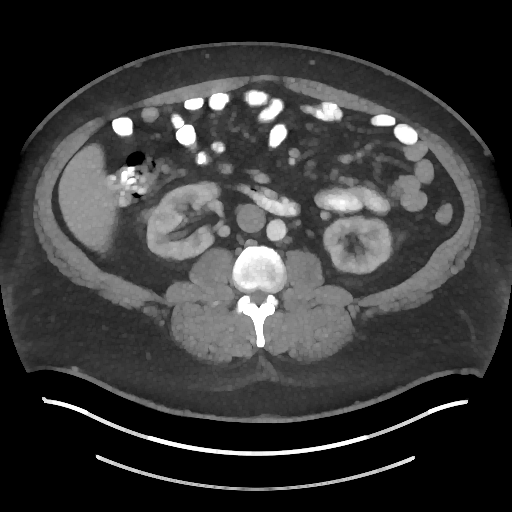Lesion: (139, 208, 156, 221)
